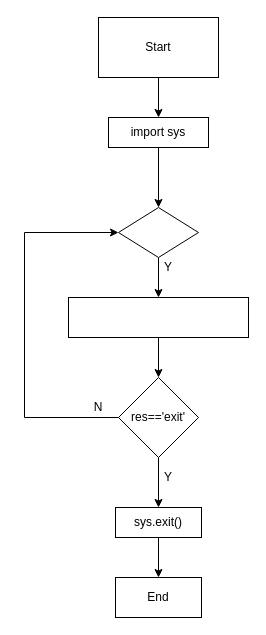
The diagram is 266 pixels wide and 635 high, and some of its shapes have lost their labels. The shapes that lost their labels are listed below. From the top down, each one's box as (x1, y1, x2, y2) in pixels, then its label:
(118, 206, 198, 258): True
(68, 296, 248, 338): res=input('Type exit to exit.\n')
